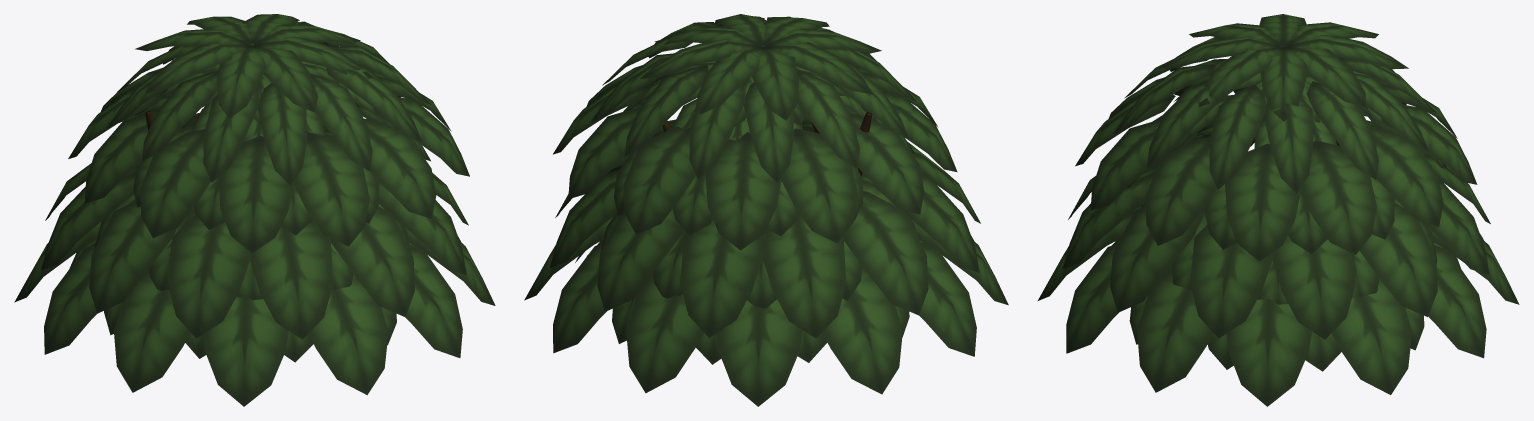
The model's file is arbusto2.fbx.
3 renders of one model, left to right at view 1: azimuth 30°, elevation 25°; view 2: azimuth 150°, elevation 25°; view 3: azimuth 270°, elevation 25°, orthographic.
Parts seen in each view (by area): view 1: pPlane49, pPlane48, pPlane28, pPlane27, pPlane29, pPlane73, pPlane72, pPlane45, pPlane47, pPlane69, pPlane71, pPlane26 (+35 smaller); view 2: pPlane43, pPlane42, pPlane44, pPlane23, pPlane24, pPlane66, pPlane67, pPlane22, pPlane74, pPlane50, pPlane68, pPlane25 (+35 smaller); view 3: pPlane32, pPlane33, pPlane52, pPlane77, pPlane31, pPlane76, pPlane53, pPlane70, pPlane51, pPlane46, pPlane75, pPlane30 (+35 smaller).
Boxes of the visible parts, x1,y1,x2,y2 form: pPlane49: [168, 214, 252, 338]; pPlane48: [250, 220, 332, 339]; pPlane28: [203, 296, 288, 406]; pPlane27: [308, 274, 388, 395]; pPlane29: [114, 268, 190, 392]; pPlane73: [218, 135, 294, 253]; pPlane72: [294, 132, 369, 246]; pPlane45: [89, 201, 176, 313]; pPlane47: [330, 206, 414, 316]; pPlane69: [140, 129, 210, 238]; pPlane71: [364, 118, 436, 218]; pPlane26: [405, 244, 462, 357]; pPlane43: [763, 214, 846, 338]; pPlane42: [680, 220, 767, 337]; pPlane44: [843, 191, 928, 315]; pPlane23: [716, 299, 802, 406]; pPlane24: [822, 266, 902, 394]; pPlane66: [705, 132, 782, 250]; pPlane67: [781, 128, 857, 243]; pPlane22: [626, 273, 703, 392]; pPlane74: [623, 126, 695, 234]; pPlane50: [597, 209, 683, 311]; pPlane68: [850, 114, 924, 214]; pPlane25: [919, 242, 976, 356]; pPlane32: [1226, 299, 1311, 406]; pPlane33: [1137, 268, 1213, 392]; pPlane52: [1272, 235, 1355, 339]; pPlane77: [1225, 143, 1301, 261]; pPlane31: [1331, 278, 1411, 394]; pPlane76: [1301, 140, 1376, 254]; pPlane53: [1190, 225, 1275, 338]; pPlane70: [1145, 137, 1216, 245]; pPlane51: [1359, 203, 1437, 316]; pPlane46: [1110, 206, 1205, 312]; pPlane75: [1370, 126, 1443, 226]; pPlane30: [1428, 245, 1486, 358].
Size of the model in its own units: 1.77 by 1.21 by 1.77.
Materials: 1 (1 with a texture image).
